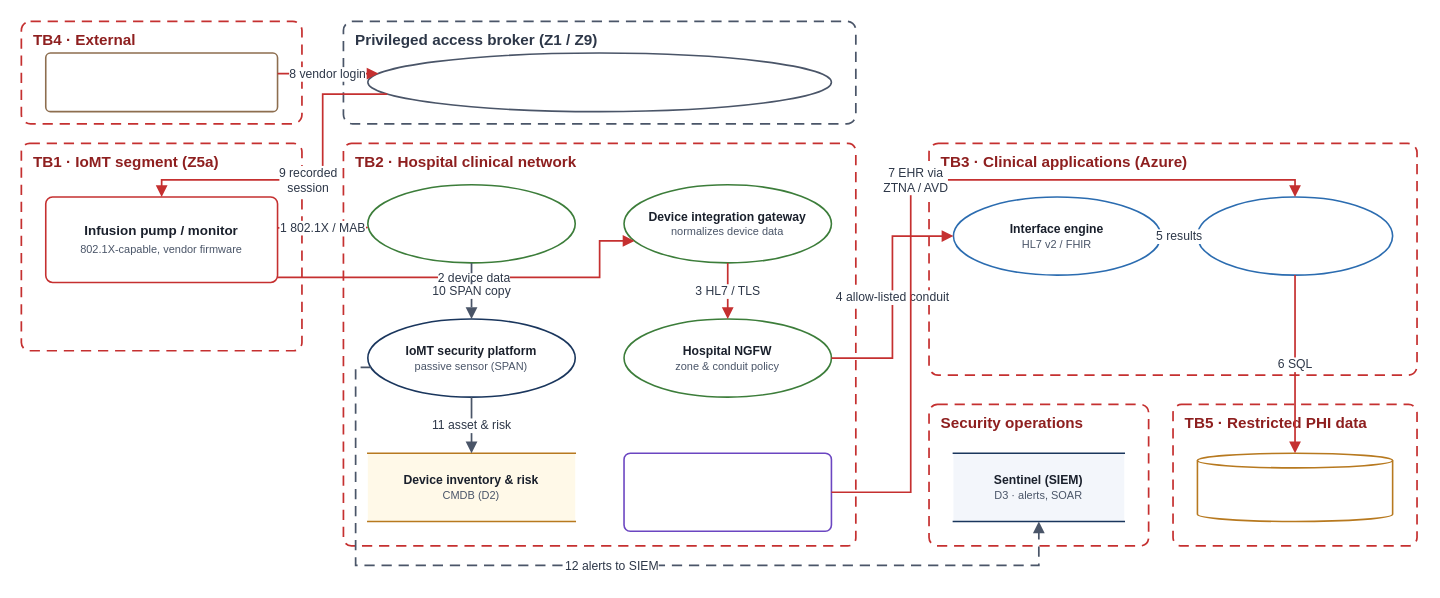
Image size: 1440x598. Some labels were removed from this diagram. Here are the shapes that lost their labels. From the top down, the centre of each, then its label:
At point (161, 82): "Device vendor engineer external, own device".
At point (599, 82): "PAM vendor-access gateway MFA · ticket approval · JIT · session recording".
At point (470, 223): "NAC + access switch Cisco ISE · 802.1X / MAB · SGT".
At point (1294, 235): "EHR application flowsheets, alarms".
At point (727, 492): "Clinician workstation Z2 · badge tap-and-go".
At point (1294, 487): "EHR database D1 · CMK encrypted".
